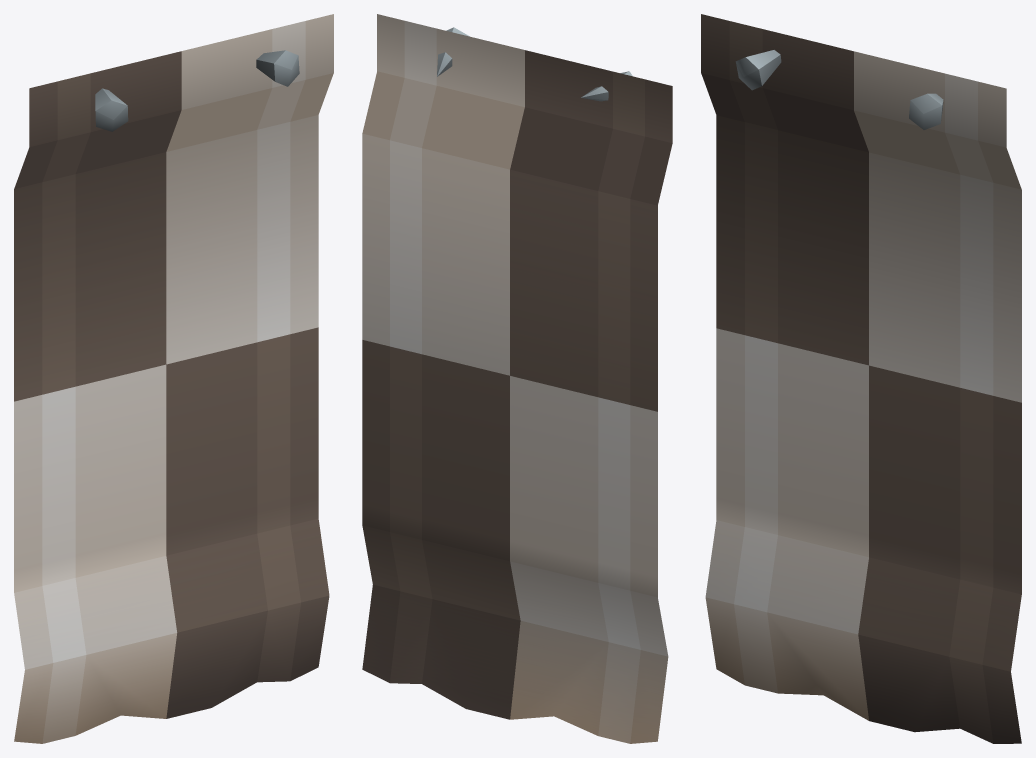
Rendered from banner_pattern_a_white.gltf.
3 renders of one model, left to right at view 1: azimuth 30°, elevation 25°; view 2: azimuth 150°, elevation 25°; view 3: azimuth 330°, elevation 25°, orthographic. The views are drawn at different scales.
Visible parts, largest first — view 1: banner_patternA_white; view 2: banner_patternA_white; view 3: banner_patternA_white.
Boxes of the visible parts, <box> form: banner_patternA_white: <box>14,14,333,743</box>; banner_patternA_white: <box>362,14,672,743</box>; banner_patternA_white: <box>701,14,1021,743</box>.
Bounding box in the file's own units: 1.5 × 3.2 × 0.3119.
Materials: 1 (1 with a texture image).
